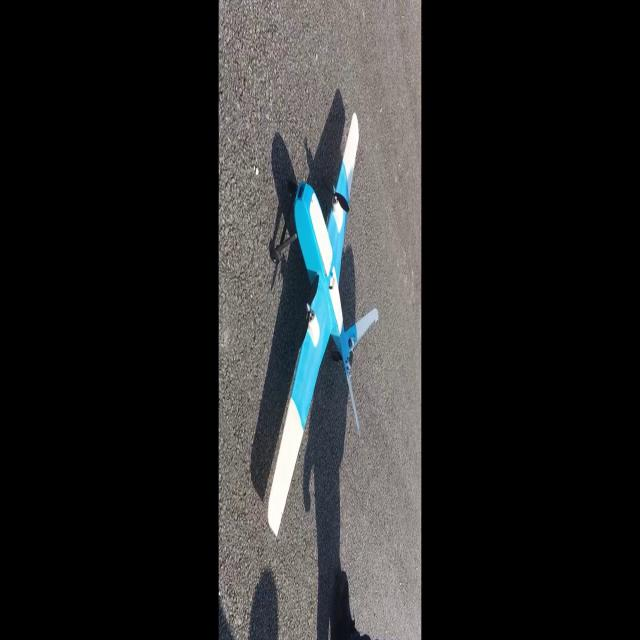iha: (296, 101, 337, 539)
